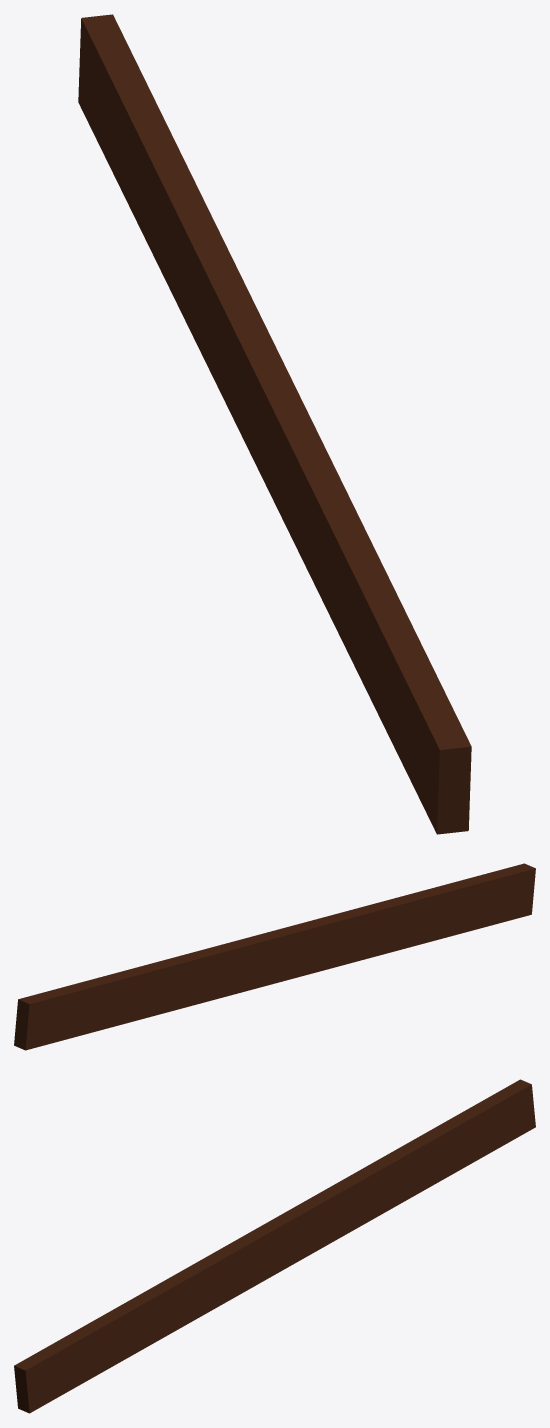
Rendered from wood_h.glb.
The picture shows the model from 3 angles, top to bottom: view 1: azimuth 30°, elevation 25°; view 2: azimuth 150°, elevation 25°; view 3: azimuth 330°, elevation 25°; orthographic projection. The views are drawn at different scales.
Visible parts, largest first — view 1: Cube.006; view 2: Cube.006; view 3: Cube.006.
Part boxes in pixels (x1,y1,x2,y2): Cube.006: [78, 14, 471, 834]; Cube.006: [14, 863, 535, 1050]; Cube.006: [14, 1079, 535, 1413].
Size of the model in its own units: 0.667 by 0.4277 by 2.25.
